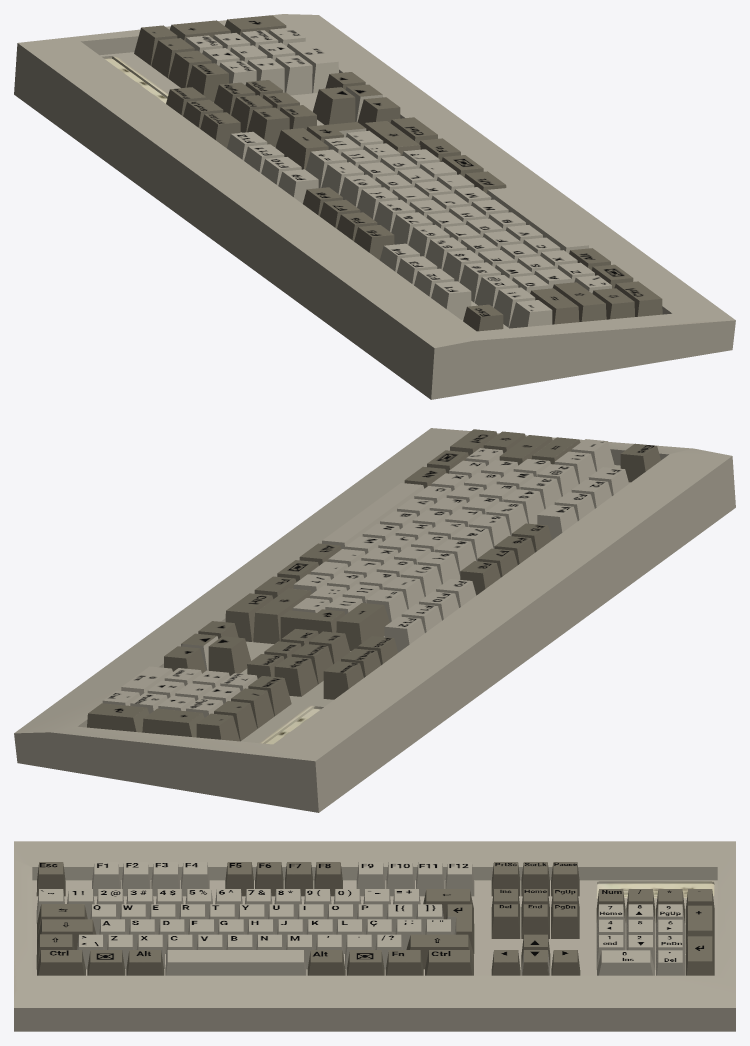
File: Keyboard.fbx
3 views of the same model, one above another, from view 1: azimuth 30°, elevation 25°; view 2: azimuth 150°, elevation 25°; view 3: azimuth 270°, elevation 25° (orthographic). The views are drawn at different scales.
Visible parts, largest first — view 1: Keyboard; view 2: Keyboard; view 3: Keyboard.
Boxes of the visible parts, box(x1,y1,x2,y2) form: Keyboard: box(14, 14, 735, 399); Keyboard: box(14, 428, 735, 812); Keyboard: box(14, 841, 735, 1031).
Size of the model in its own units: 19.83 by 5 by 47.
